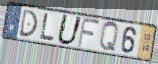6: (120, 25, 138, 55)
D: (18, 9, 39, 38)
F: (76, 16, 101, 49)
L: (39, 12, 56, 42)
Q: (98, 20, 120, 53)
U: (55, 13, 84, 47)
